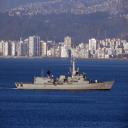Fragata: (16, 59, 117, 92)
